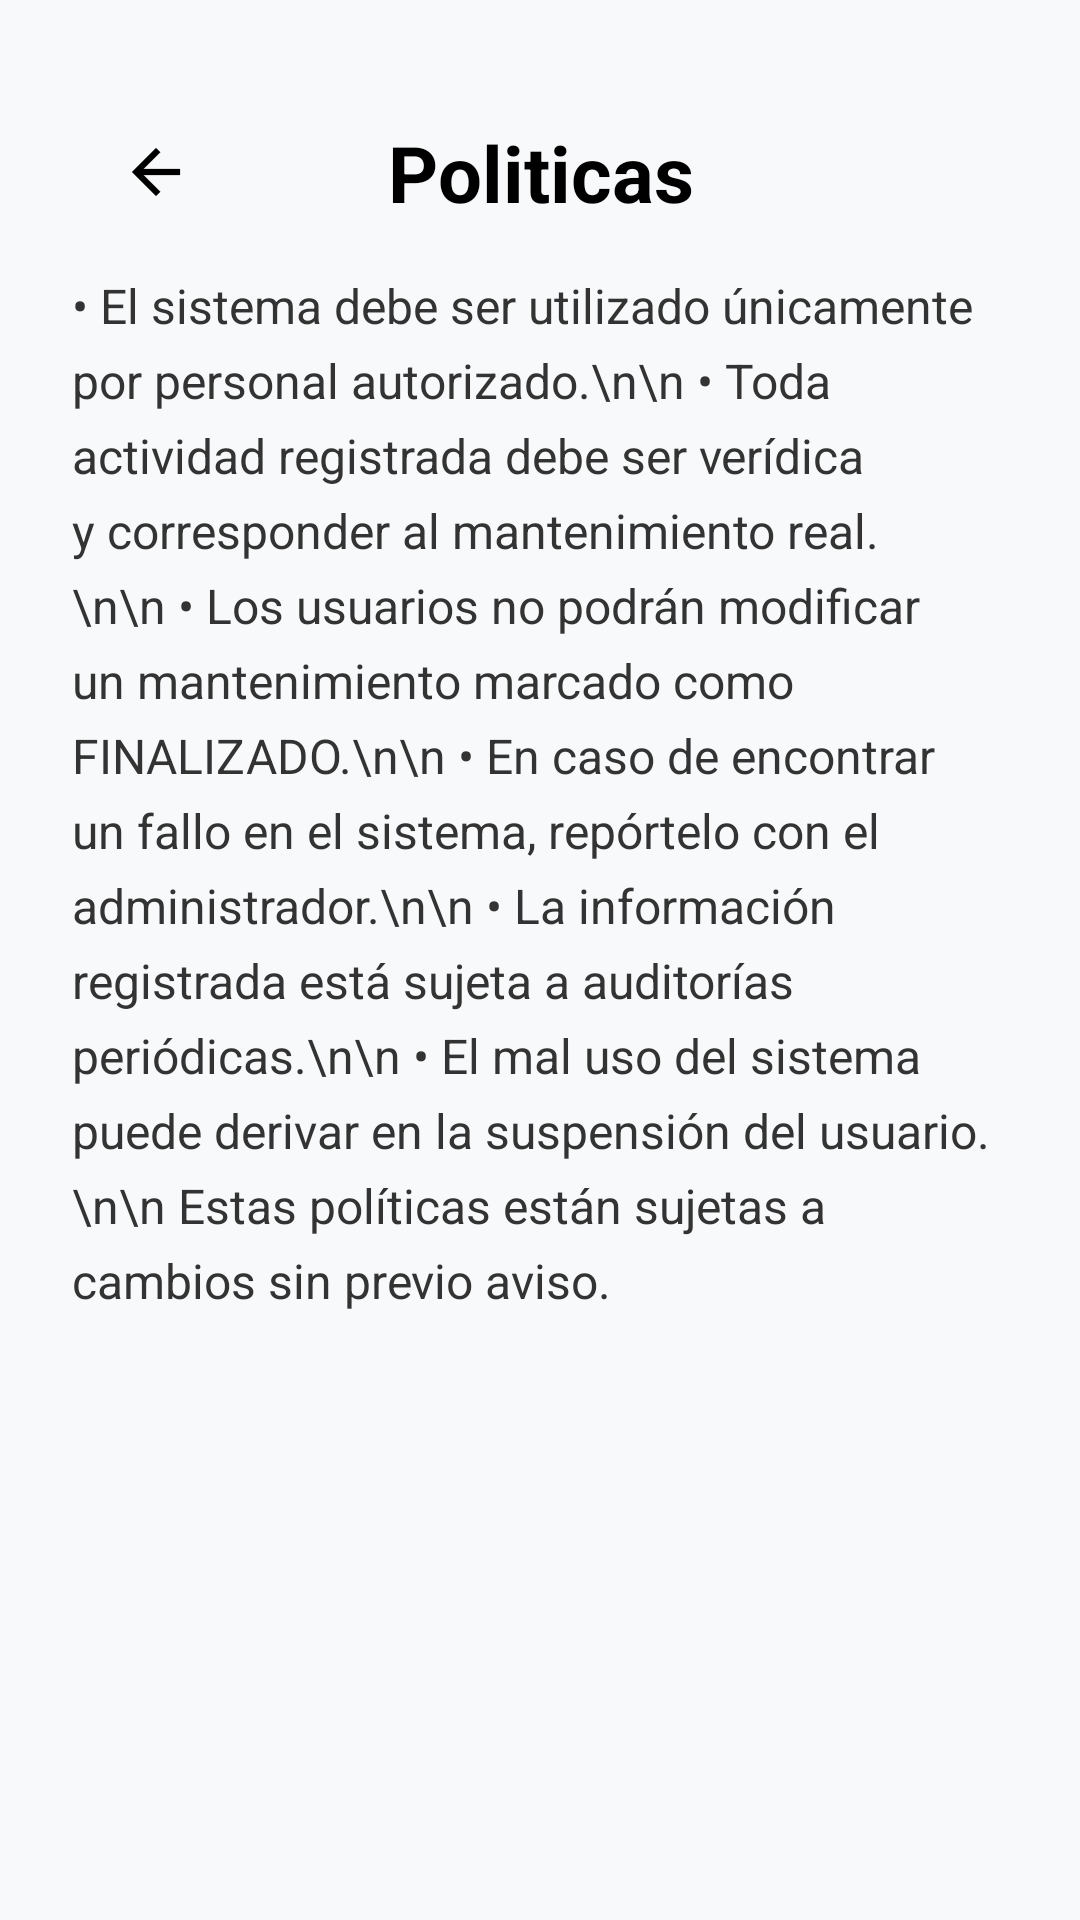

Named icons in this screenshot (1080 x 1920) and their bounding boxes, (x1,y1,x2,y2):
Volver atrás: (132,148,181,196)
